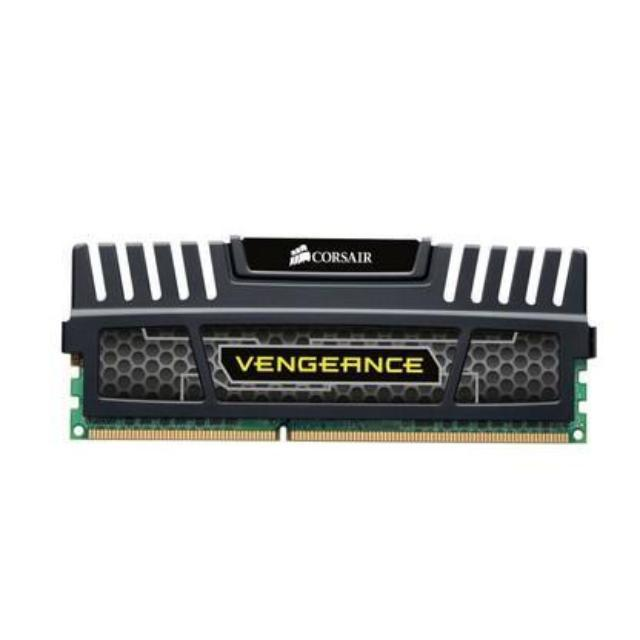RAM: (61, 227, 599, 456)
